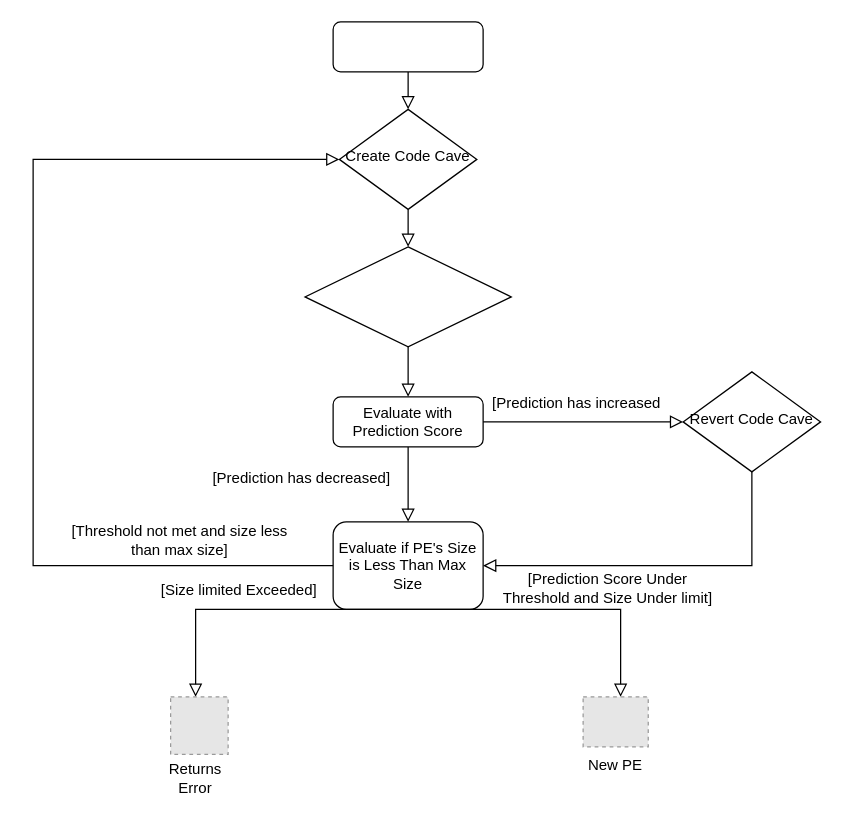
The diagram is 843 pixels wide and 819 high, and some of its shapes have lost their labels. Grey dashed boxes stand in for pictures. Each missing label, with the centre of its shape:
"Choose Random Benign Section Data" goes at (407,296).
"Malicious PE" goes at (407,46).
